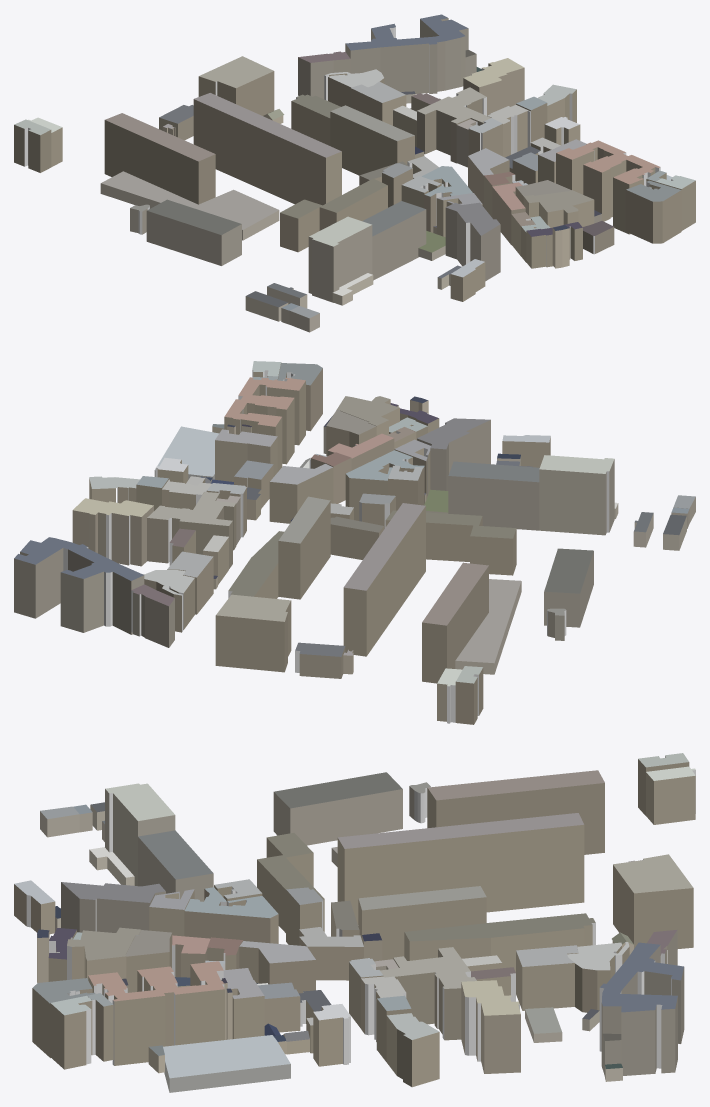
3 views of the same model, one above another, from view 1: azimuth 30°, elevation 25°; view 2: azimuth 150°, elevation 25°; view 3: azimuth 270°, elevation 25° (orthographic). The views are drawn at different scales.
Parts seen in each view (by area): view 1: tuile; view 2: tuile; view 3: tuile.
Part boxes in pixels (bbox=[...]): tuile: bbox=[14, 14, 695, 332]; tuile: bbox=[14, 361, 695, 724]; tuile: bbox=[14, 753, 695, 1092].
Size of the model in its own units: 271 by 34.4 by 266.
